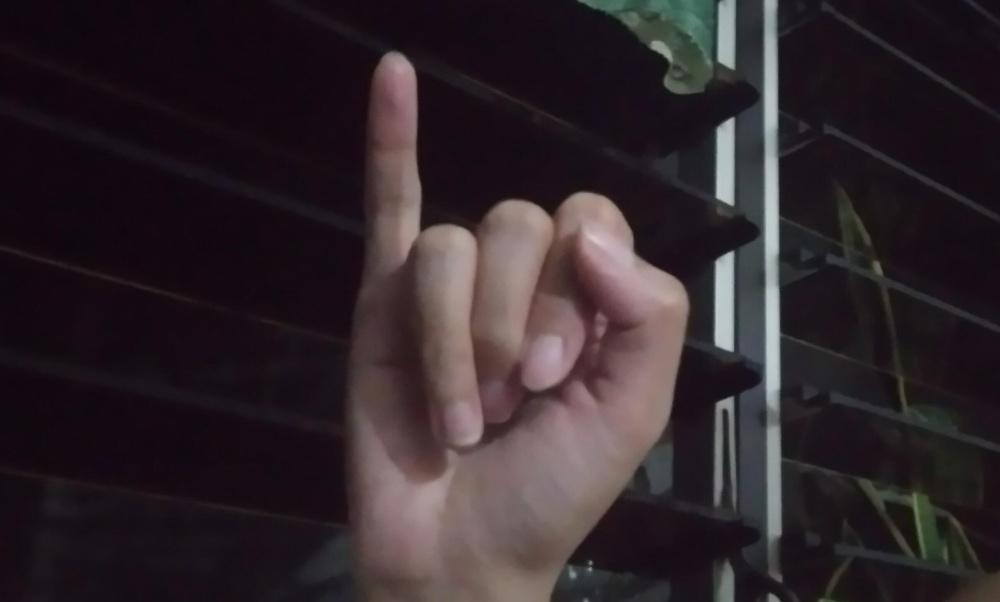i: (342, 47, 690, 592)
